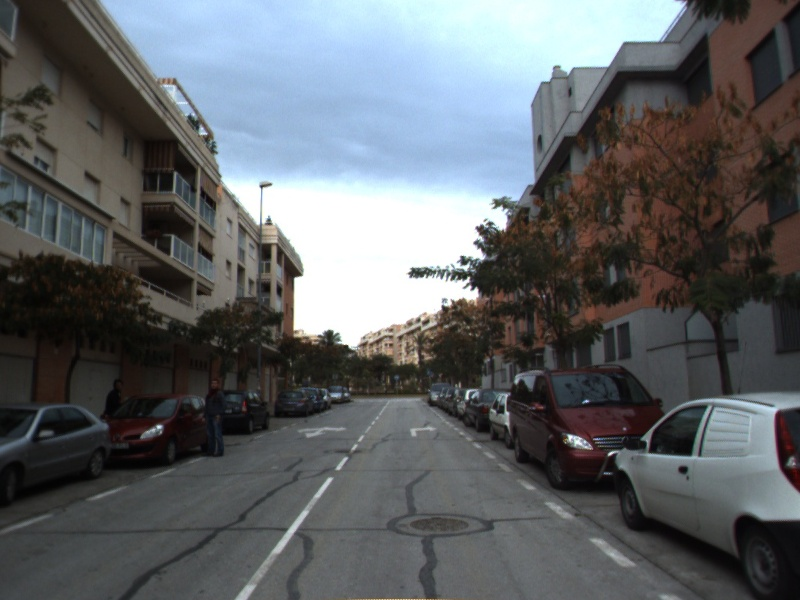RIGHT: (408, 423, 439, 438)
